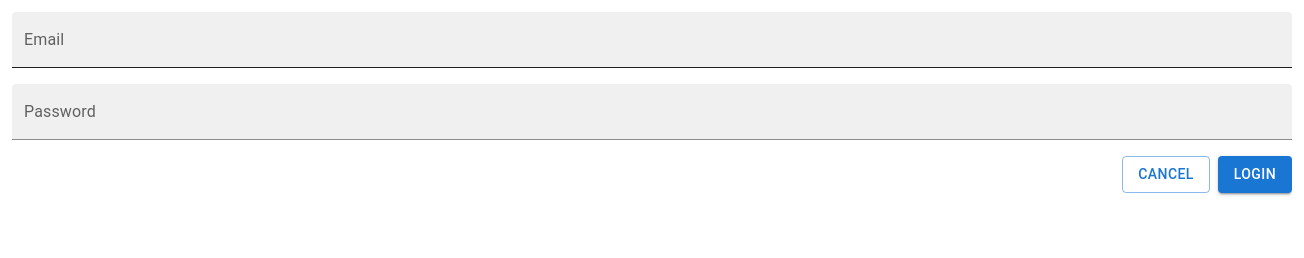
Test: LoginForm › should show validation errors when fields are empty
This screenshot has width=1304, height=258.
What coordinates should you click on to do the following:
click the button with test id "submit-button"
I would click on:
 (1255, 174)
Its box is x1=1218 y1=156 x2=1292 y2=192.
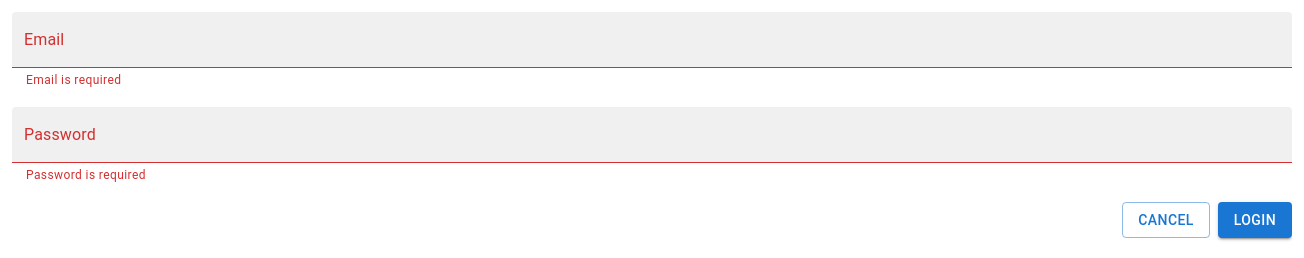
Check: the text "Email is required" is shown, box x1=26 y1=73 x2=121 y2=87
Check: the text "Password is required" is shown, box x1=26 y1=168 x2=146 y2=182
